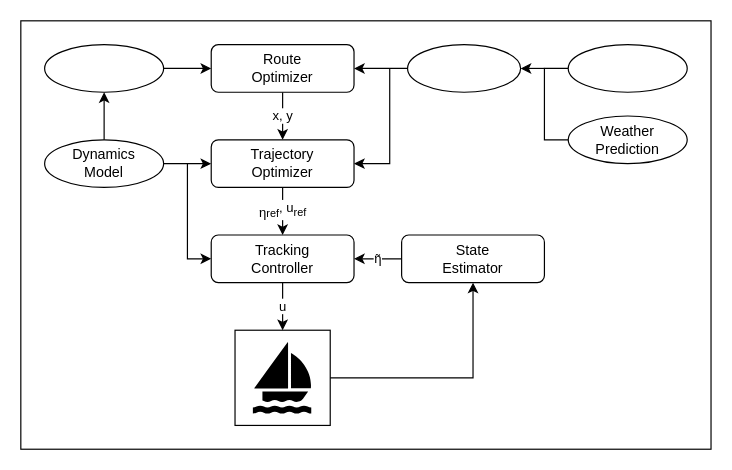
The diagram is 732 pixels wide and 470 high, and some of its shapes have lost their labels. The shapes that lost their labels are listed below. From the top down, each one's centre as x and y in pixels, then its label:
the point at 103,67: Polar Model
the point at 463,67: Environment Model
the point at 627,67: Land Map
